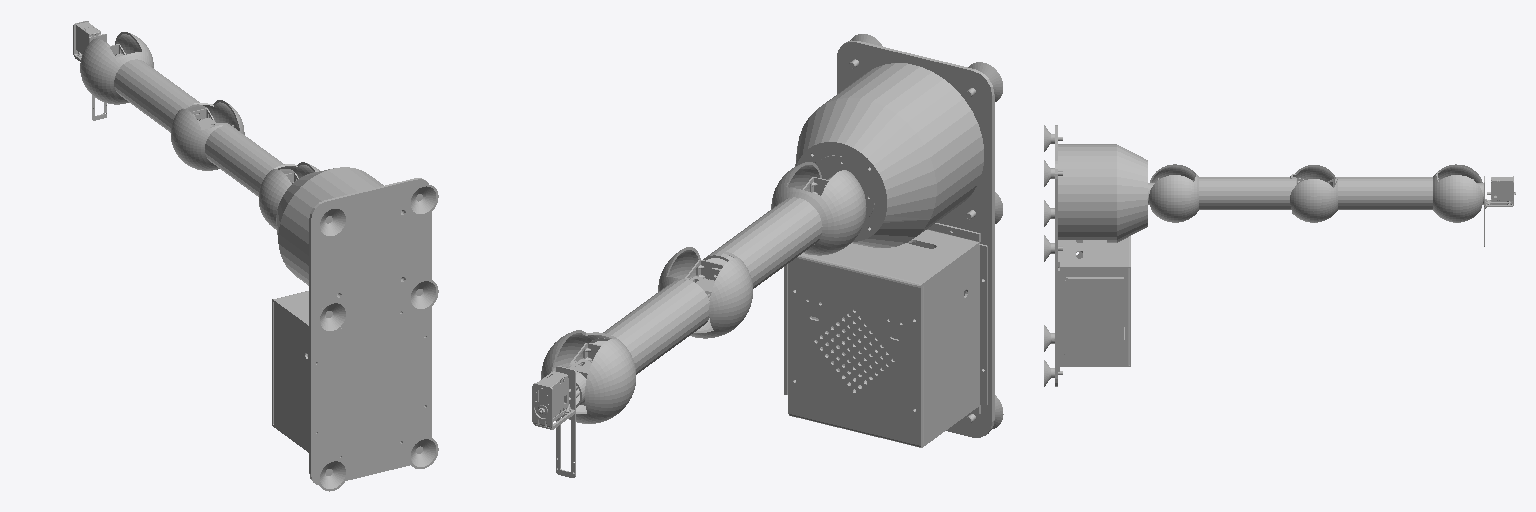
robot.urdf — 机械臂2.0:
<?xml version="1.0" encoding="utf-8"?>
<!-- This URDF was automatically created by SolidWorks to URDF Exporter! Originally created by [author] ([email redacted]) 
     Commit Version: 1.6.0-1-g15f4949  Build Version: 1.6.7594.29634
     For more information, please see http://wiki.ros.org/sw_urdf_exporter -->
<robot
  name="机械臂2.0">
  <link
    name="base_link">
    <inertial>
      <origin
        xyz="0.0055142 0.054638 -0.11085"
        rpy="0 0 0" />
      <mass
        value="1.4919" />
      <inertia
        ixx="0.012304"
        ixy="2.35E-06"
        ixz="2.2552E-07"
        iyy="0.014067"
        iyz="0.00012458"
        izz="0.0047087" />
    </inertial>
    <visual>
      <origin
        xyz="0 0 0"
        rpy="0 0 0" />
      <geometry>
        <mesh
          filename="package://机械臂2.0/meshes/base_link.STL" />
      </geometry>
      <material
        name="">
        <color
          rgba="0.75294 0.75294 0.75294 1" />
      </material>
    </visual>
    <collision>
      <origin
        xyz="0 0 0"
        rpy="0 0 0" />
      <geometry>
        <mesh
          filename="package://机械臂2.0/meshes/base_link.STL" />
      </geometry>
    </collision>
  </link>
  <link
    name="shoulder_link">
    <inertial>
      <origin
        xyz="5.6108E-09 0.020745 0.00049007"
        rpy="0 0 0" />
      <mass
        value="0.035504" />
      <inertia
        ixx="1.1871E-05"
        ixy="1.275E-12"
        ixz="-2.7047E-12"
        iyy="2.2937E-05"
        iyz="1.5015E-13"
        izz="1.3307E-05" />
    </inertial>
    <visual>
      <origin
        xyz="0 0 0"
        rpy="0 0 0" />
      <geometry>
        <mesh
          filename="package://机械臂2.0/meshes/shoulder_link.STL" />
      </geometry>
      <material
        name="">
        <color
          rgba="0.75294 0.75294 0.75294 1" />
      </material>
    </visual>
    <collision>
      <origin
        xyz="0 0 0"
        rpy="0 0 0" />
      <geometry>
        <mesh
          filename="package://机械臂2.0/meshes/shoulder_link.STL" />
      </geometry>
    </collision>
  </link>
  <joint
    name="shoulder_pan_joint"
    type="revolute">
    <origin
      xyz="0 0.1438 0"
      rpy="0 0 0" />
    <parent
      link="base_link" />
    <child
      link="shoulder_link" />
    <axis
      xyz="0 1 0" />
    <limit
      lower="-3.14"
      upper="3.14"
      effort="100"
      velocity="1" />
  </joint>
  <link
    name="upper_arm_link">
    <inertial>
      <origin
        xyz="-0.0034341 0.098226 -0.0029774"
        rpy="0 0 0" />
      <mass
        value="0.29531" />
      <inertia
        ixx="0.00059426"
        ixy="7.0346E-07"
        ixz="6.4701E-06"
        iyy="0.00026669"
        iyz="-1.1142E-06"
        izz="0.00061027" />
    </inertial>
    <visual>
      <origin
        xyz="0 0 0"
        rpy="0 0 0" />
      <geometry>
        <mesh
          filename="package://机械臂2.0/meshes/upper_arm_link.STL" />
      </geometry>
      <material
        name="">
        <color
          rgba="0.75294 0.75294 0.75294 1" />
      </material>
    </visual>
    <collision>
      <origin
        xyz="0 0 0"
        rpy="0 0 0" />
      <geometry>
        <mesh
          filename="package://机械臂2.0/meshes/upper_arm_link.STL" />
      </geometry>
    </collision>
  </link>
  <joint
    name="shoulder_lift_joint"
    type="revolute">
    <origin
      xyz="0 0.069 0"
      rpy="0 0 0" />
    <parent
      link="shoulder_link" />
    <child
      link="upper_arm_link" />
    <axis
      xyz="-1 0 0" />
    <limit
      lower="-3.14"
      upper="3.14"
      effort="100"
      velocity="1" />
  </joint>
  <link
    name="forearm_link">
    <inertial>
      <origin
        xyz="0.0033703 0.13456 -0.0030421"
        rpy="0 0 0" />
      <mass
        value="0.29576" />
      <inertia
        ixx="0.0005951"
        ixy="6.0121E-07"
        ixz="-6.5745E-06"
        iyy="0.00026672"
        iyz="1.8251E-06"
        izz="0.00061117" />
    </inertial>
    <visual>
      <origin
        xyz="0 0 0"
        rpy="0 0 0" />
      <geometry>
        <mesh
          filename="package://机械臂2.0/meshes/forearm_link.STL" />
      </geometry>
      <material
        name="">
        <color
          rgba="0.75294 0.75294 0.75294 1" />
      </material>
    </visual>
    <collision>
      <origin
        xyz="0 0 0"
        rpy="0 0 0" />
      <geometry>
        <mesh
          filename="package://机械臂2.0/meshes/forearm_link.STL" />
      </geometry>
    </collision>
  </link>
  <joint
    name="elbow_joint"
    type="revolute">
    <origin
      xyz="0 0.25165 0"
      rpy="0 0 0" />
    <parent
      link="upper_arm_link" />
    <child
      link="forearm_link" />
    <axis
      xyz="-1 0 0" />
    <limit
      lower="-3.14"
      upper="3.14"
      effort="100"
      velocity="1" />
  </joint>
  <link
    name="wrist_link">
    <inertial>
      <origin
        xyz="-8.6065E-05 0.050469 0.0016337"
        rpy="0 0 0" />
      <mass
        value="0.087097" />
      <inertia
        ixx="2.4015E-05"
        ixy="-2.9344E-08"
        ixz="-5.6666E-12"
        iyy="1.9382E-05"
        iyz="-6.9041E-07"
        izz="2.108E-05" />
    </inertial>
    <visual>
      <origin
        xyz="0 0 0"
        rpy="0 0 0" />
      <geometry>
        <mesh
          filename="package://机械臂2.0/meshes/wrist_link.STL" />
      </geometry>
      <material
        name="">
        <color
          rgba="0.75294 0.75294 0.75294 1" />
      </material>
    </visual>
    <collision>
      <origin
        xyz="0 0 0"
        rpy="0 0 0" />
      <geometry>
        <mesh
          filename="package://机械臂2.0/meshes/wrist_link.STL" />
      </geometry>
    </collision>
  </link>
  <joint
    name="wrist_joint"
    type="revolute">
    <origin
      xyz="0 0.25165 0"
      rpy="0 0 0" />
    <parent
      link="forearm_link" />
    <child
      link="wrist_link" />
    <axis
      xyz="-1 0 0" />
    <limit
      lower="-3.14"
      upper="3.14"
      effort="100"
      velocity="1" />
  </joint>
  <link
    name="ee_link">
    <inertial>
      <origin
        xyz="2.5019E-05 0.068518 1.2398E-07"
        rpy="0 0 0" />
      <mass
        value="0.11408" />
      <inertia
        ixx="2.5359E-05"
        ixy="3.0406E-10"
        ixz="1.0217E-10"
        iyy="2.8035E-05"
        iyz="-2.1178E-12"
        izz="2.5365E-05" />
    </inertial>
    <visual>
      <origin
        xyz="0 0 0"
        rpy="0 0 0" />
      <geometry>
        <mesh
          filename="package://机械臂2.0/meshes/ee_link.STL" />
      </geometry>
      <material
        name="">
        <color
          rgba="0.75294 0.75294 0.75294 1" />
      </material>
    </visual>
    <collision>
      <origin
        xyz="0 0 0"
        rpy="0 0 0" />
      <geometry>
        <mesh
          filename="package://机械臂2.0/meshes/ee_link.STL" />
      </geometry>
    </collision>
  </link>
  <joint
    name="ee_joint"
    type="revolute">
    <origin
      xyz="0 0.11045 0"
      rpy="0 0 0" />
    <parent
      link="wrist_link" />
    <child
      link="ee_link" />
    <axis
      xyz="0 -1 0" />
    <limit
      lower="-3.14"
      upper="3.14"
      effort="100"
      velocity="1" />
  </joint>
</robot>

--- Render facts (derived) ---
The picture shows the robot from 3 angles, left to right: view 1: azimuth 30°, elevation 25°; view 2: azimuth 150°, elevation 25°; view 3: azimuth 270°, elevation 25°; orthographic projection.
Robot: 机械臂2.0 — 6 links, 5 joints (5 revolute); root link base_link; default pose: all joints at 0.
Visible links, largest first — view 1: base_link, forearm_link, upper_arm_link, wrist_link; view 2: base_link, upper_arm_link, forearm_link, wrist_link, shoulder_link; view 3: base_link, forearm_link, upper_arm_link, wrist_link.
Boxes of the visible links, left/top/right/bottom form: base_link: left=272, top=167, right=438, bottom=491; forearm_link: left=80, top=32, right=244, bottom=169; upper_arm_link: left=171, top=109, right=319, bottom=229; wrist_link: left=73, top=21, right=125, bottom=120; base_link: left=784, top=34, right=1003, bottom=447; upper_arm_link: left=685, top=162, right=866, bottom=338; forearm_link: left=541, top=247, right=714, bottom=423; wrist_link: left=532, top=359, right=591, bottom=477; shoulder_link: left=803, top=155, right=874, bottom=220; base_link: left=1044, top=125, right=1147, bottom=386; forearm_link: left=1290, top=164, right=1482, bottom=222; upper_arm_link: left=1149, top=164, right=1335, bottom=222; wrist_link: left=1473, top=176, right=1515, bottom=246.
Bounding box of the posed robot: 0.2 × 0.8553 × 0.45 m (x, y, z).
5 mesh visuals loaded from 6 distinct referenced files (5 binary STL); not drawn: 1 (reference not matched to a file when rendering).